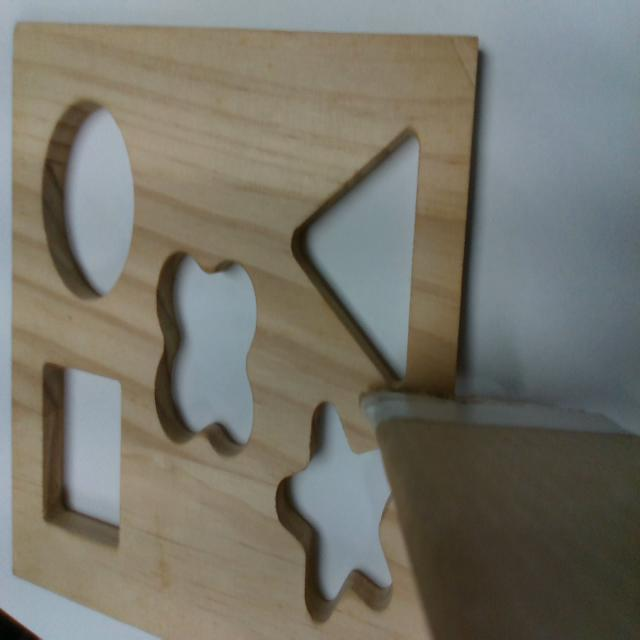circle: (41, 98, 135, 308)
flower: (154, 254, 258, 455)
square: (41, 361, 123, 550)
star: (271, 404, 394, 621)
triangle: (290, 124, 424, 389)
